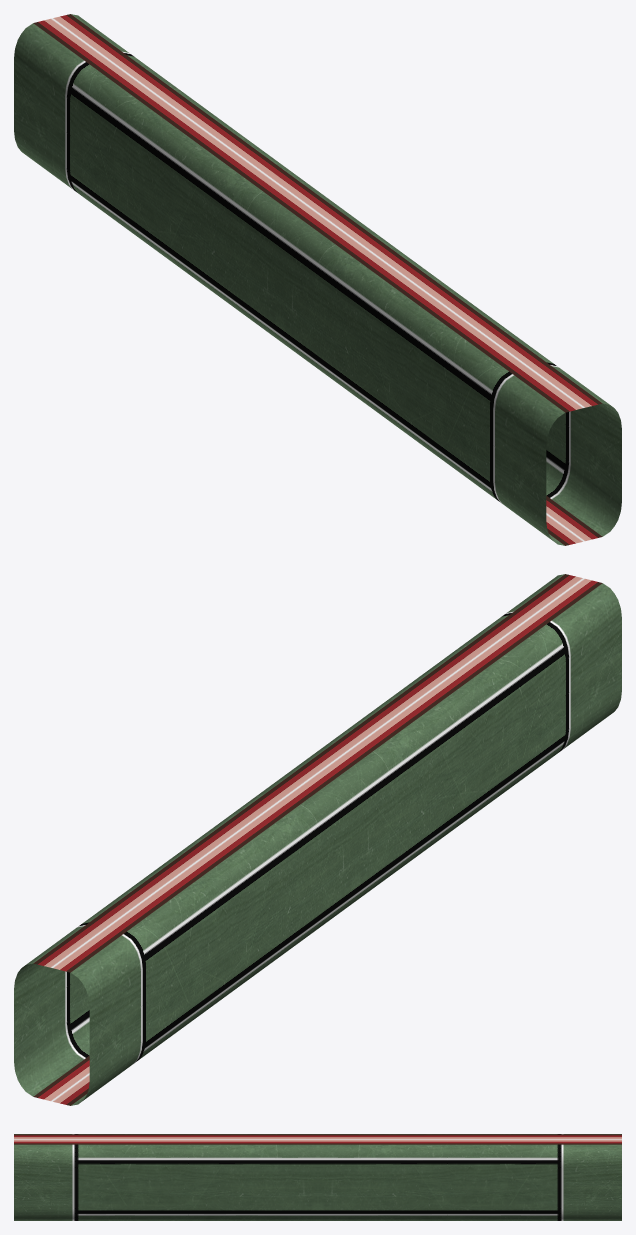
The model's file is SM_ChangBang01B.fbx.
3 renders of one model, top to bottom at view 1: azimuth 30°, elevation 25°; view 2: azimuth 150°, elevation 25°; view 3: azimuth 270°, elevation 25°, orthographic. The views are drawn at different scales.
Parts seen in each view (by area): view 1: SM_ChangBang01B; view 2: SM_ChangBang01B; view 3: SM_ChangBang01B.
Part boxes in pixels (left/top/right/bottom): SM_ChangBang01B: left=14, top=14, right=621, bottom=545; SM_ChangBang01B: left=14, top=574, right=621, bottom=1105; SM_ChangBang01B: left=14, top=1134, right=621, bottom=1220.
Bounding box in the file's own units: 20.19 × 246 × 34.01.
